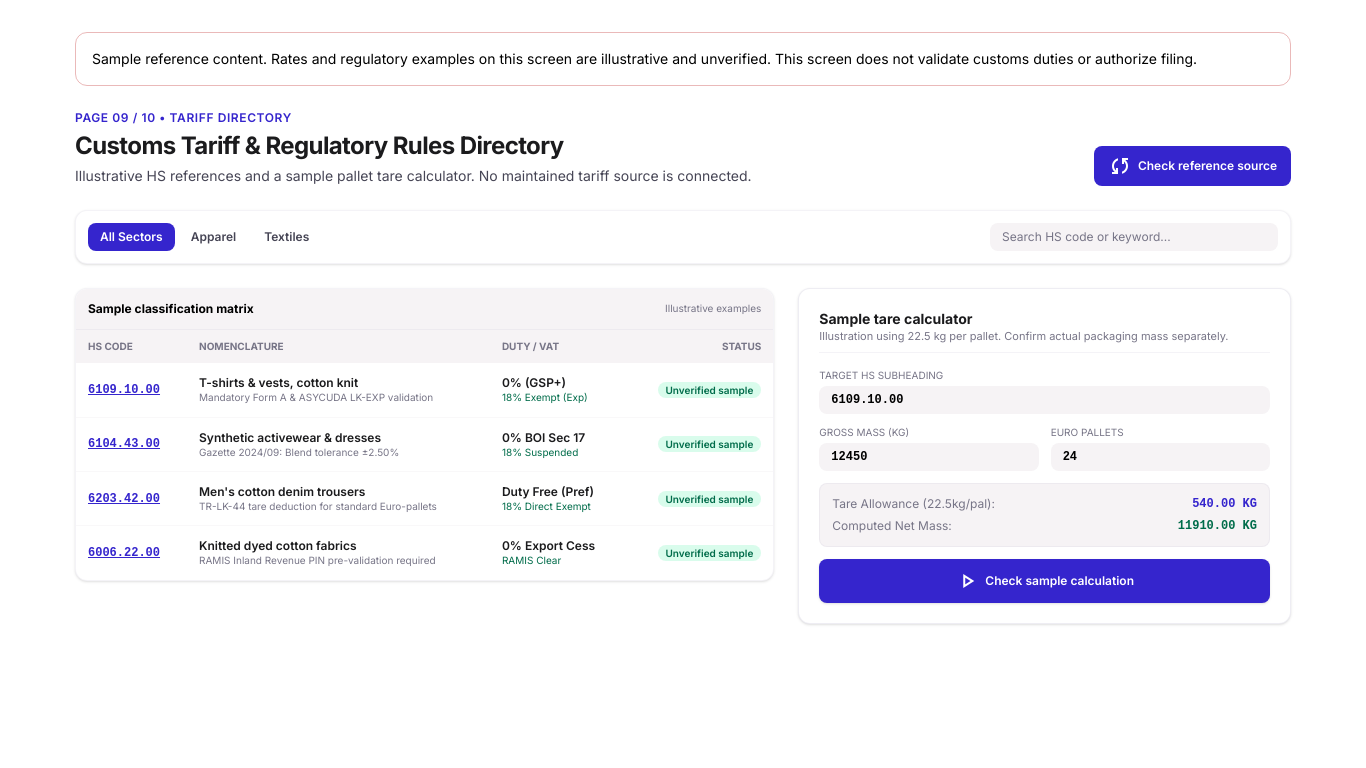
Test: Sample tariff interactions › rejects invalid pallet count -1 without claiming a valid result
Replace the text in the number field named "Euro pallets" with "-1" at (1160, 457), box [1051,443,1270,471]
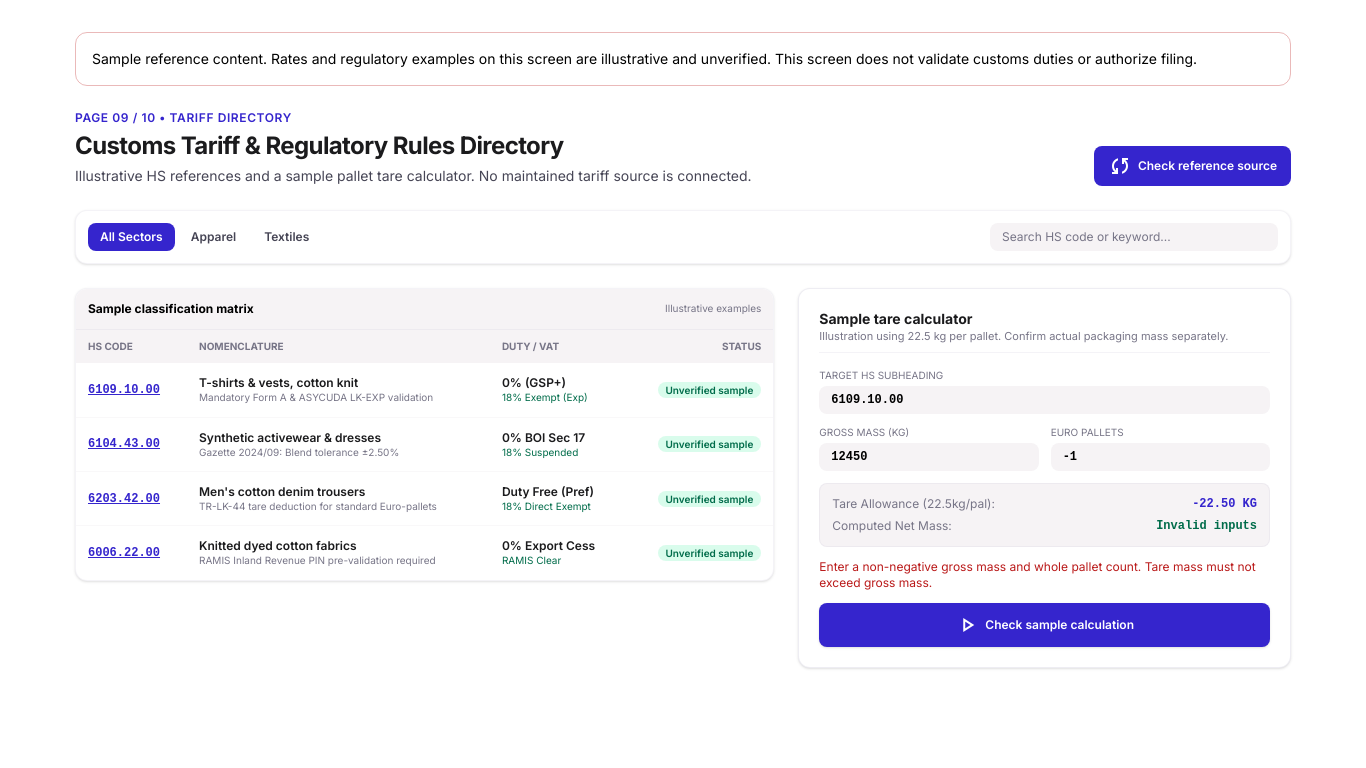
Expected: the message shows "whole pallet count", [819,559,1256,590]
Expected: the button "Check sample calculation" is disabled, [819,603,1270,647]
Expected: the text "Invalid inputs" is shown, [1156,518,1257,534]
